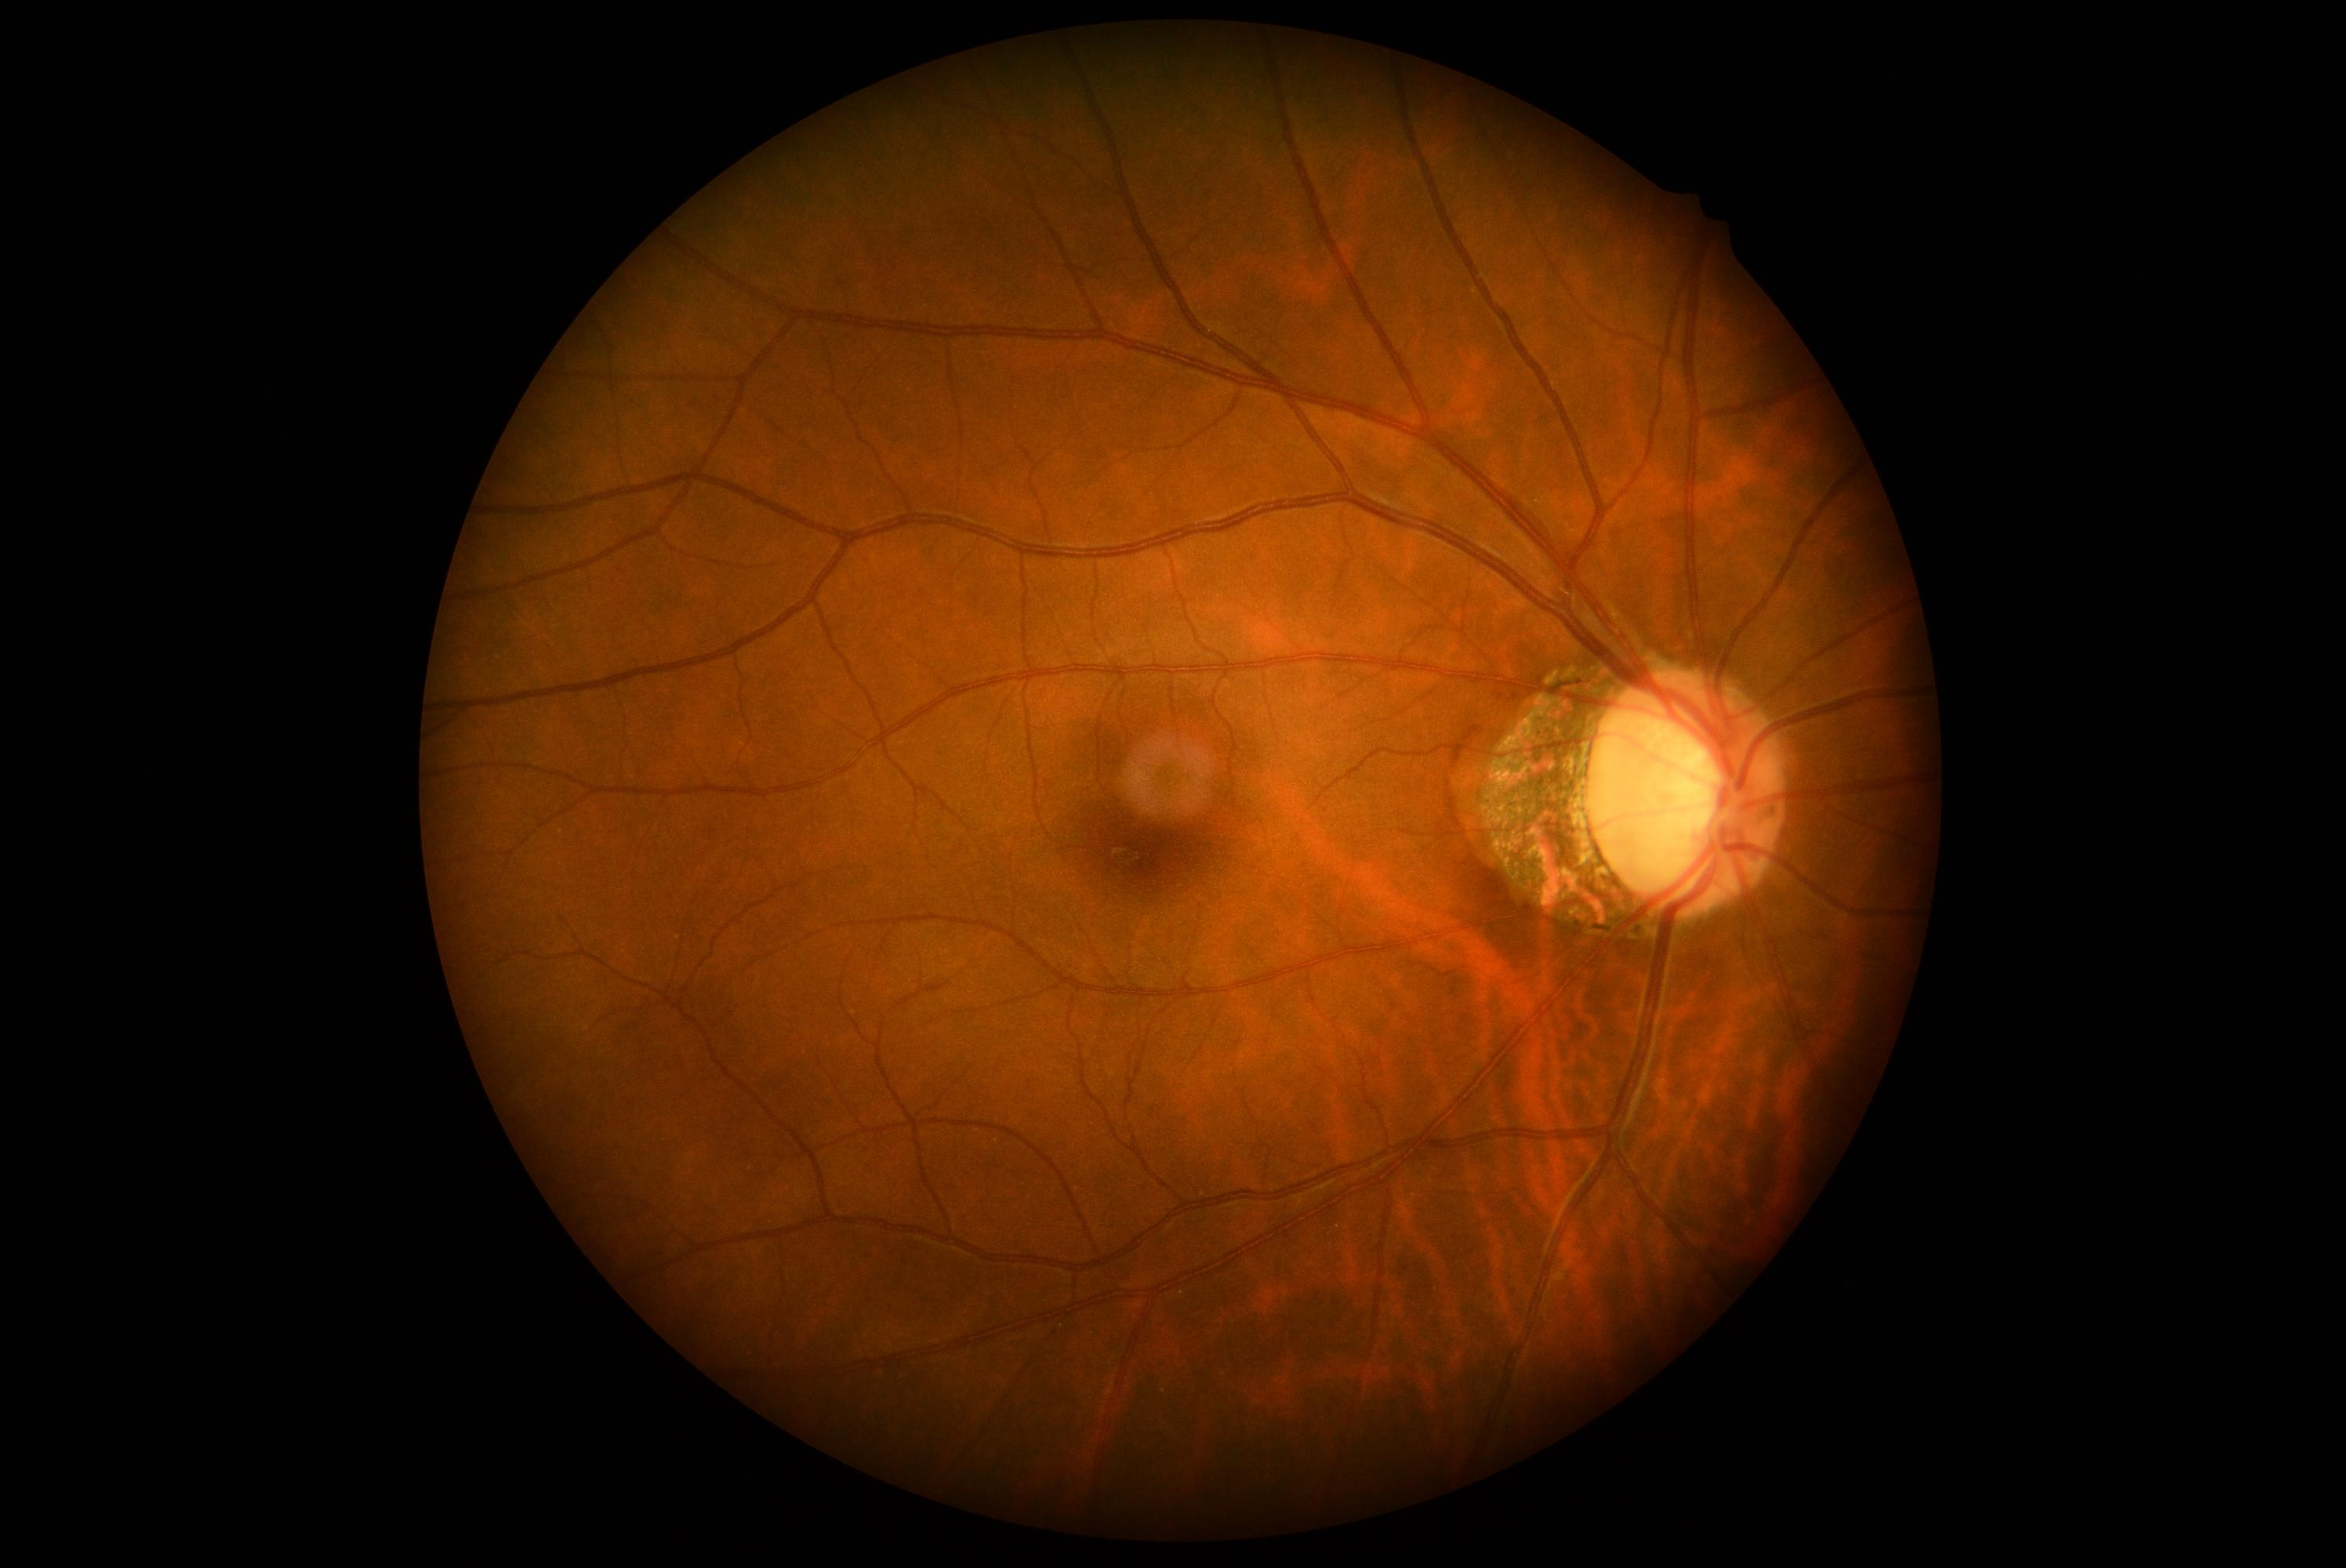Fovea: (1051, 772, 1211, 933)
